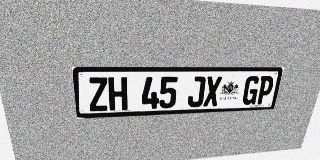4: (142, 77, 160, 109)
5: (159, 77, 178, 109)
G: (241, 76, 261, 105)
H: (108, 77, 127, 111)
J: (187, 76, 206, 107)
P: (255, 76, 275, 104)
X: (203, 76, 222, 107)
Z: (87, 77, 109, 111)
